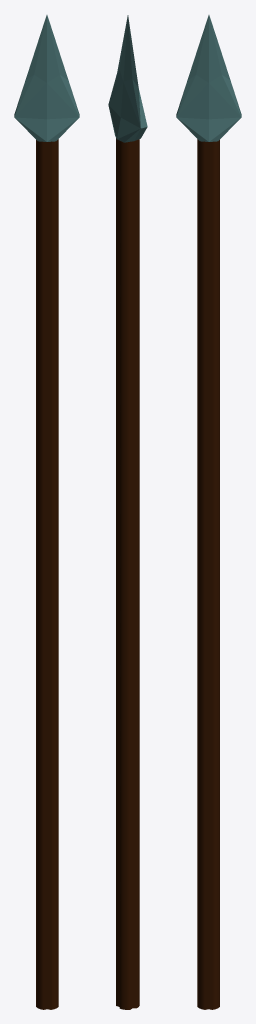
Rendered from Spear.FBX.
3 views of the same model, side by side, from view 1: azimuth 90°, elevation 25°; view 2: azimuth 210°, elevation 25°; view 3: azimuth 270°, elevation 25° (orthographic).
Parts seen in each view (by area): view 1: Cylinder001, Hedra001; view 2: Cylinder001, Hedra001; view 3: Cylinder001, Hedra001.
Boxes of the visible parts, left/top/right/bottom form: Cylinder001: left=36, top=139, right=58, bottom=1009; Hedra001: left=14, top=15, right=79, bottom=141; Cylinder001: left=116, top=138, right=139, bottom=1009; Hedra001: left=108, top=15, right=147, bottom=142; Cylinder001: left=197, top=139, right=219, bottom=1009; Hedra001: left=176, top=15, right=241, bottom=141.
Size of the model in its own units: 1.28 by 54.74 by 3.26.
